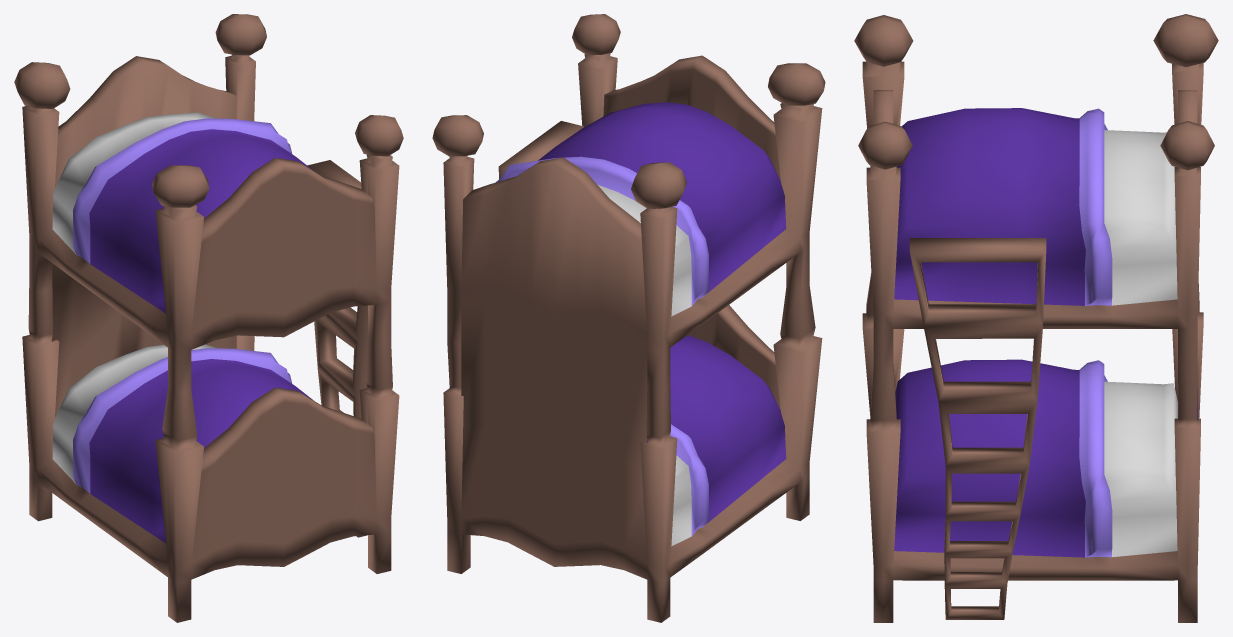
Rendered from props_superposed_bed.fbx.
The picture shows the model from 3 angles, left to right: view 1: azimuth 30°, elevation 25°; view 2: azimuth 150°, elevation 25°; view 3: azimuth 270°, elevation 25°; orthographic projection. The views are drawn at different scales.
Parts seen in each view (by area): view 1: props_double_bed; view 2: props_double_bed; view 3: props_double_bed.
Boxes of the visible parts, x1,y1,x2,y2 form: props_double_bed: (14,14,403,622); props_double_bed: (432,14,825,622); props_double_bed: (854,14,1218,622).
Bounding box in the file's own units: 222 × 384 × 255.
